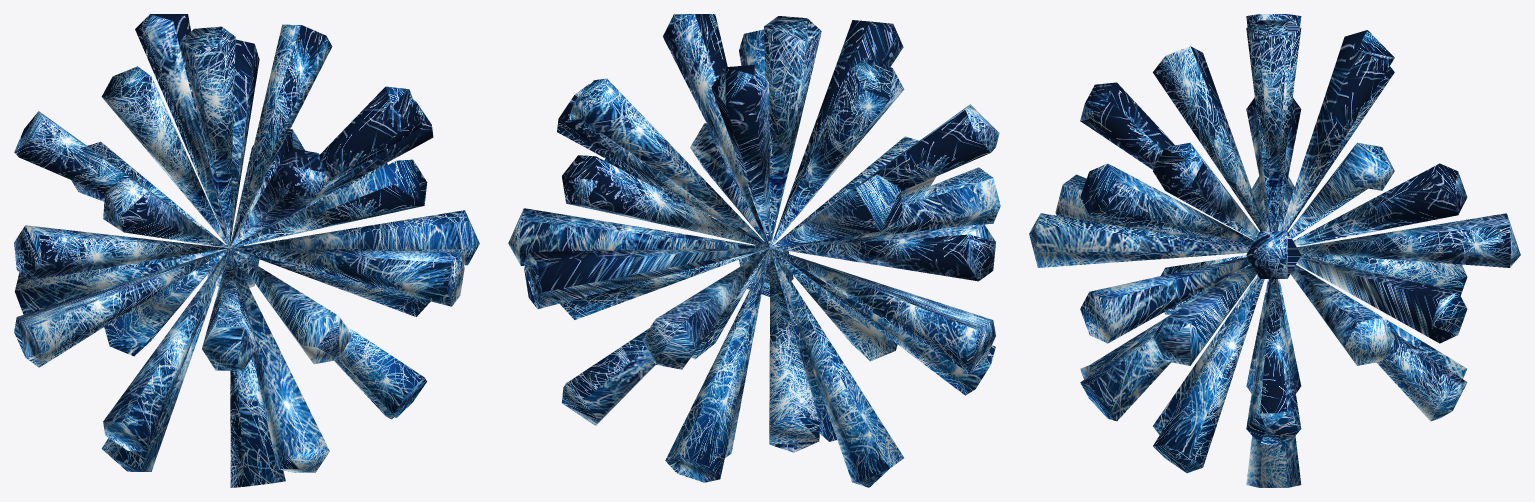
File: Virus5_MOBILE.FBX
The picture shows the model from 3 angles, left to right: view 1: azimuth 30°, elevation 25°; view 2: azimuth 150°, elevation 25°; view 3: azimuth 270°, elevation 25°; orthographic projection. The views are drawn at different scales.
Parts seen in each view (by area): view 1: Virus5; view 2: Virus5; view 3: Virus5.
Boxes of the visible parts, box(x1,y1,x2,y2) form: Virus5: box(14, 14, 479, 487); Virus5: box(508, 14, 1000, 487); Virus5: box(1029, 14, 1520, 487).
Bounding box in the file's own units: 2.79 × 2.8 × 2.94.
